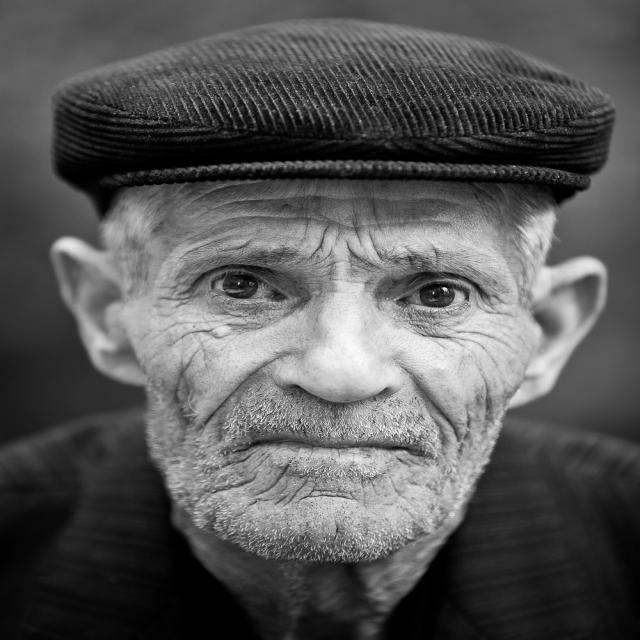front: (150, 197, 550, 543)
